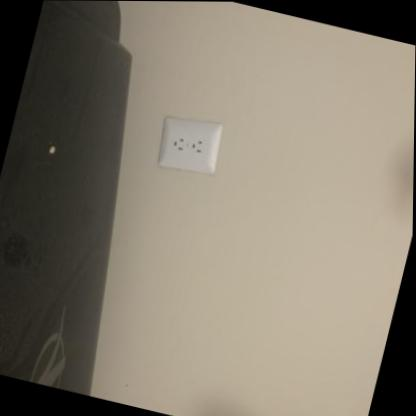OUTLET: (153, 115, 224, 177)
